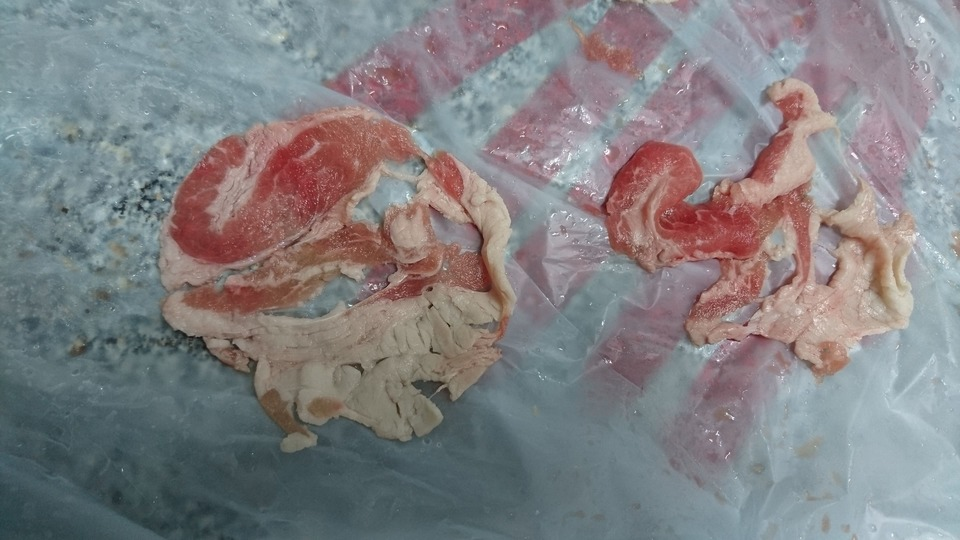restructured meat: (157, 102, 515, 458), (589, 75, 907, 373)
